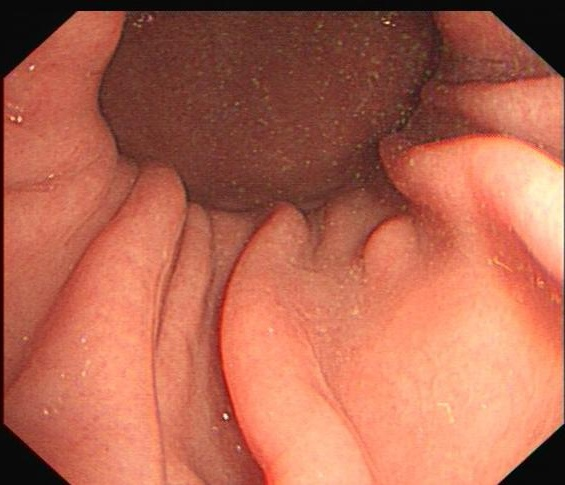Polyp: (361, 212, 420, 277)
